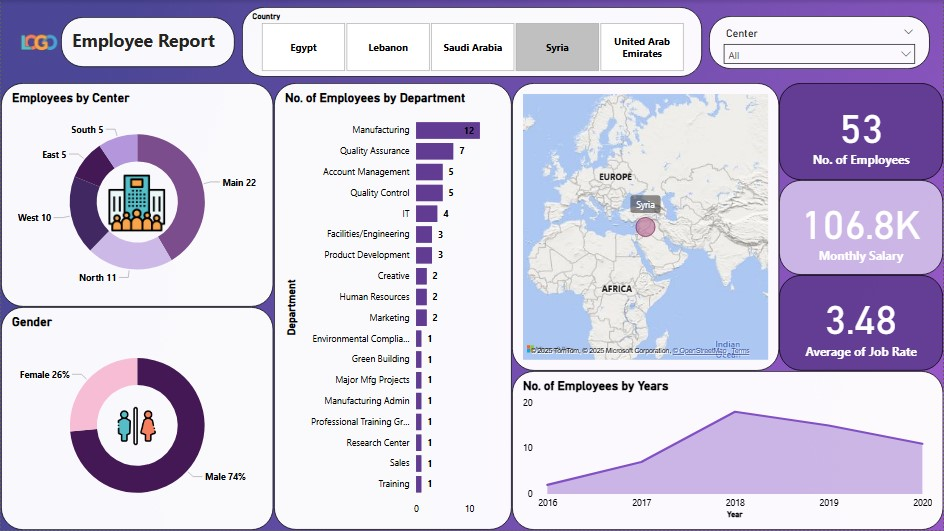

The dashboard page shown, as its layout file describes it:
{"tool":"powerbi","page":{"name":"Employees Report DashBoard","canvas":[1280,720],"ordinal":0},"visuals":[{"type":"clusteredBarChart","title":"No. of Employees by Department","fields":{"Category":["Employees.Department"],"Y":["CountNonNull(Employees.No)"]},"box":[370.2,112.9,323.4,607],"z":0},{"type":"donutChart","title":"Employees by Center","fields":{"Category":["Employees.Center"],"Y":["CountNonNull(Employees.No)"]},"box":[0,112.9,370.2,304.2],"z":1000},{"type":"donutChart","title":"Gender","fields":{"Category":["Employees.Gender"],"Y":["CountNonNull(Employees.Gender)"]},"box":[0,417,370.2,302.8],"z":2000},{"type":"map","fields":{"Category":["Employees.Country"]},"box":[694.2,112.8,362.7,391.2],"z":3000},{"type":"areaChart","title":"No. of Employees by Years","fields":{"Category":["Employees.Start Date.Variation.Date Hierarchy.Year","Employees.Start Date.Variation.Date Hierarchy.Quarter","Employees.Start Date.Variation.Date Hierarchy.Month","Employees.Start Date.Variation.Date Hierarchy.Day"],"Y":["CountNonNull(Employees.No)"]},"box":[694.2,504,585.5,216],"z":4000},{"type":"card","fields":{"Values":["CountNonNull(Employees.No)"]},"box":[1056.9,112.8,222.8,131.8],"z":5000},{"type":"card","fields":{"Values":["Sum(Employees.Monthly Salary)"]},"box":[1056.9,244.5,222.8,129.1],"z":6000},{"type":"card","fields":{"Values":["Avg(Employees.Job Rate)"]},"box":[1056.9,373.6,222.8,130.4],"z":7000},{"type":"slicer","fields":{"Values":["Employees.Country"]},"box":[327.6,9.6,624.9,95],"z":8000},{"type":"slicer","fields":{"Values":["Employees.Center"]},"box":[962.1,22,300,71.6],"z":9000},{"type":"textbox","box":[81.5,23.1,236.4,67.9],"z":10000},{"type":"image","box":[12.4,39.9,78.5,35.8],"z":11000},{"type":"image","box":[153.5,544.8,62.5,67.9],"z":12000},{"type":"image","box":[125,232.3,118.2,86.9],"z":13000}]}

Visuals, with their boxes in screenshot pixels (x1, y1, x2, y2), scaled from the page's 1280x720 canvas onto the 944x531 screenshot:
"No. of Employees by Department" clusteredBarChart: detection(273, 83, 512, 530)
"Employees by Center" donutChart: detection(0, 83, 273, 308)
"Gender" donutChart: detection(0, 308, 273, 530)
map - Employees.Country: detection(512, 83, 779, 372)
"No. of Employees by Years" areaChart: detection(512, 372, 943, 530)
card - CountNonNull(Employees.No): detection(779, 83, 943, 180)
card - Sum(Employees.Monthly Salary): detection(779, 180, 943, 276)
card - Avg(Employees.Job Rate): detection(779, 276, 943, 372)
slicer - Employees.Country: detection(242, 7, 702, 77)
slicer - Employees.Center: detection(710, 16, 931, 69)
textbox: detection(60, 17, 234, 67)
image: detection(9, 29, 67, 56)
image: detection(113, 402, 159, 452)
image: detection(92, 171, 179, 235)
